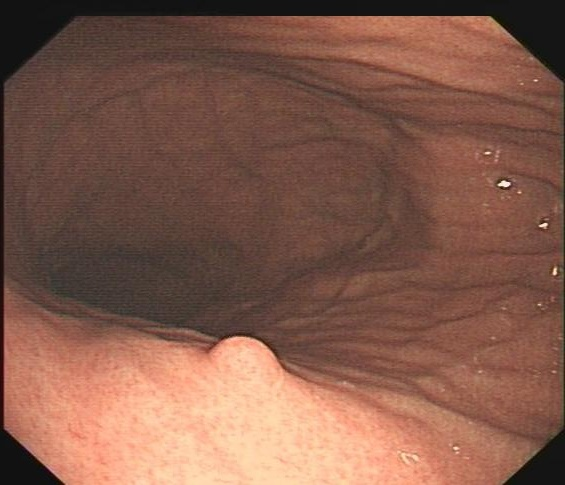Polyp: (187, 331, 297, 403)
